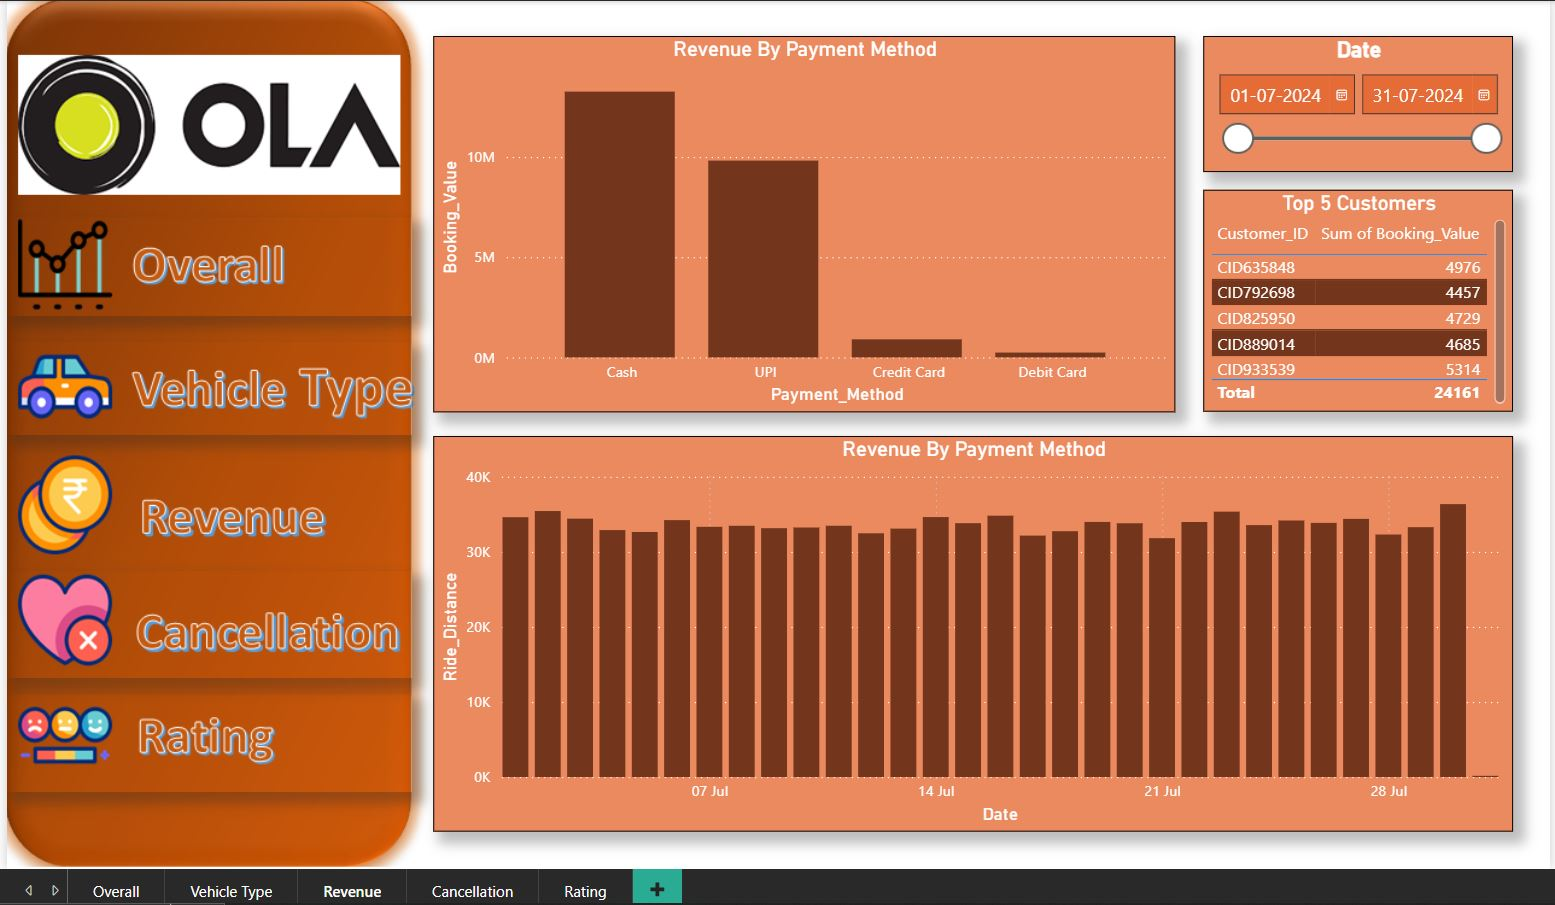

Layout of this report page (visuals, bound fields, positions):
{"tool":"powerbi","page":{"name":"Revenue ","canvas":[1280,720],"ordinal":2},"visuals":[{"type":"actionButton","box":[0,282.4,335.7,77.1],"z":0},{"type":"actionButton","box":[0,473,335.7,88.5],"z":1000},{"type":"actionButton","box":[0,573.9,335.7,81.7],"z":2000},{"type":"actionButton","box":[0,179.2,335.7,81.7],"z":3000},{"type":"columnChart","title":"Revenue By Payment Method ","fields":{"Y":["Sum(Booking.Booking_Value)"],"Category":["Booking.Payment_Method"]},"box":[353.5,29.1,615.1,311.6],"z":4000},{"type":"columnChart","title":"Revenue By Payment Method ","fields":{"Y":["Sum(Booking.Ride_Distance)"],"Category":["Booking.Date"]},"box":[353.5,360.5,895.4,327.9],"z":5000},{"type":"slicer","title":"Date","fields":{"Values":["Booking.Date"]},"box":[991.9,29.1,257,112.8],"z":6000},{"type":"tableEx","title":"Top 5 Customers ","fields":{"Values":["Booking.Customer_ID","Sum(Booking.Booking_Value)"]},"box":[991.9,157,257,183.7],"z":7000}]}

Visuals, with their boxes on the page's 1280x720 design canvas (x1, y1, x2, y2). These are canvas units, not pixel positions in the 1555x905 screenshot, which may show the page scaled, cropped or inside an application window:
actionButton: (x1=0, y1=282, x2=336, y2=360)
actionButton: (x1=0, y1=473, x2=336, y2=562)
actionButton: (x1=0, y1=574, x2=336, y2=656)
actionButton: (x1=0, y1=179, x2=336, y2=261)
"Revenue By Payment Method " columnChart: (x1=354, y1=29, x2=969, y2=341)
"Revenue By Payment Method " columnChart: (x1=354, y1=360, x2=1249, y2=688)
"Date" slicer: (x1=992, y1=29, x2=1249, y2=142)
"Top 5 Customers " tableEx: (x1=992, y1=157, x2=1249, y2=341)
